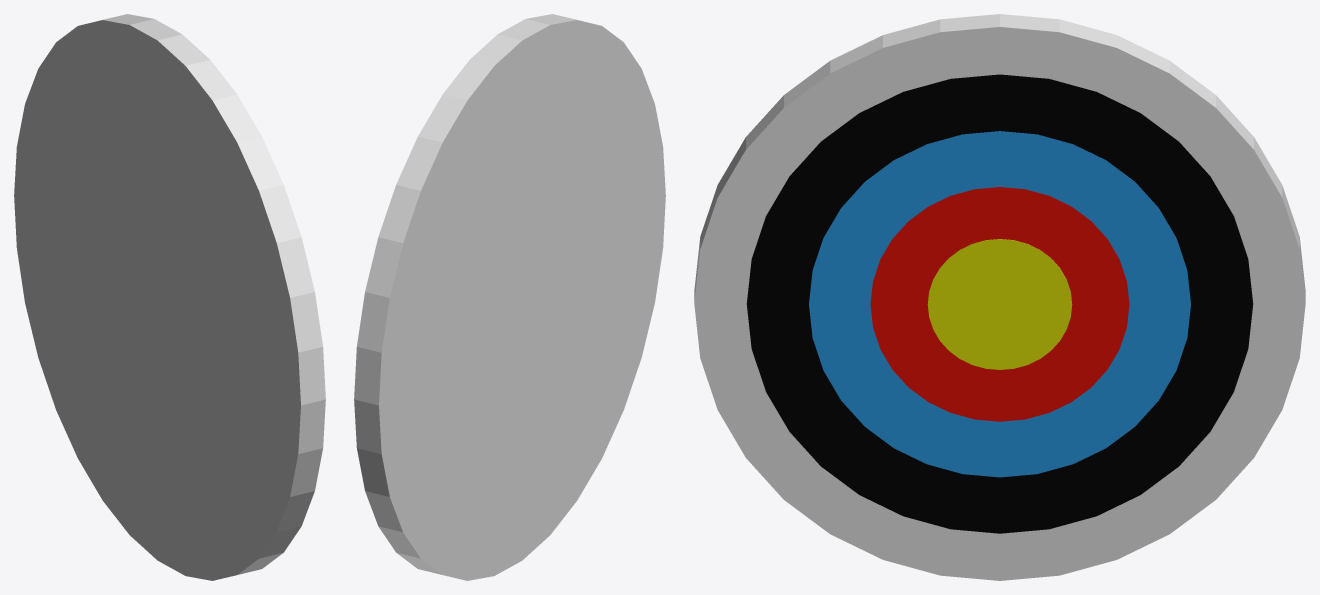
The model's file is mato2.fbx.
3 renders of one model, left to right at view 1: azimuth 30°, elevation 25°; view 2: azimuth 150°, elevation 25°; view 3: azimuth 270°, elevation 25°, orthographic. The views are drawn at different scales.
Visible parts, largest first — view 1: 円柱; view 2: 円柱; view 3: 円柱, 円柱.001, 円柱.002, 円柱.003, 円柱.004.
Part boxes in pixels (bbox=[...]): 円柱: bbox=[14, 14, 325, 580]; 円柱: bbox=[354, 14, 665, 580]; 円柱: bbox=[694, 14, 1305, 580]; 円柱.001: bbox=[746, 74, 1253, 533]; 円柱.002: bbox=[809, 131, 1190, 477]; 円柱.003: bbox=[870, 187, 1129, 421]; 円柱.004: bbox=[927, 239, 1072, 369].
Bounding box in the file's own units: 29.23 × 558 × 558.
